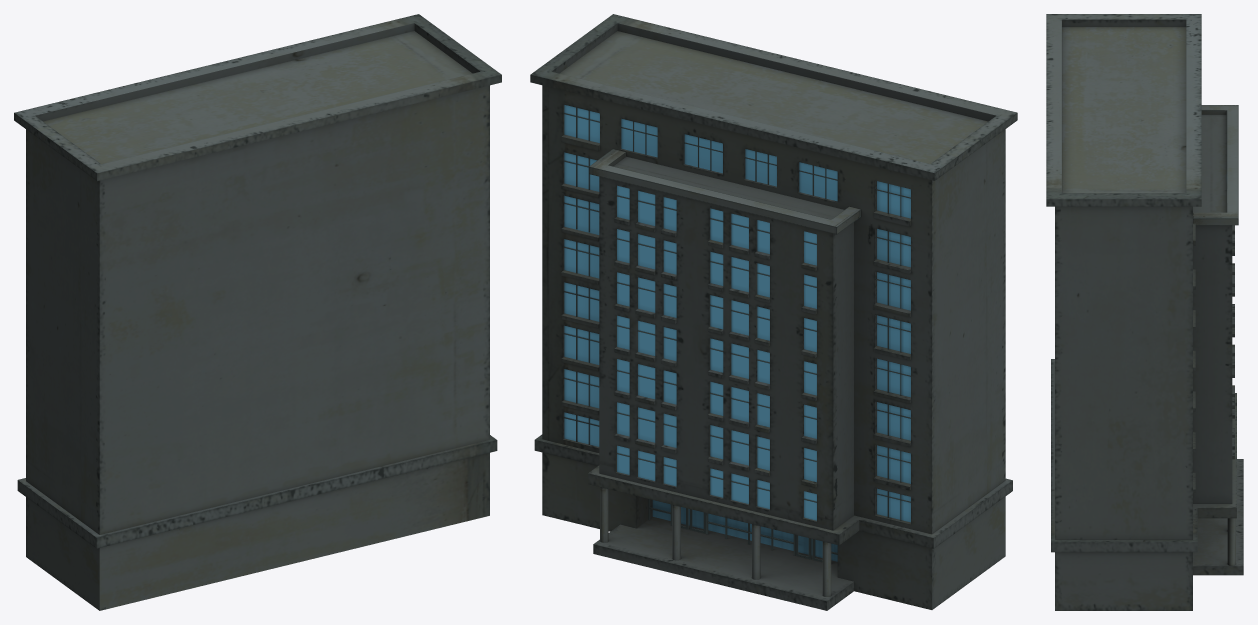
File: Building.Obj
3 renders of one model, left to right at view 1: azimuth 30°, elevation 25°; view 2: azimuth 150°, elevation 25°; view 3: azimuth 270°, elevation 25°, orthographic. The views are drawn at different scales.
Visible parts, largest first — view 1: Building; view 2: Building, WindowGlasses, WindowFrames, BuildingFrame, Columns, BuildingEntrance; view 3: Building, BuildingFrame, Columns.
Boxes of the visible parts, x1,y1,x2,y2 form: Building: (14,14,501,610); Building: (530,14,1017,610); WindowGlasses: (564,105,910,561); WindowFrames: (563,107,910,520); BuildingFrame: (589,149,860,234); Columns: (600,487,831,596); BuildingEntrance: (648,499,837,562); Building: (1046,14,1243,610); BuildingFrame: (1193,105,1238,225); Columns: (1227,518,1235,565).
Bounding box in the file's own units: 391 × 408 × 176.
